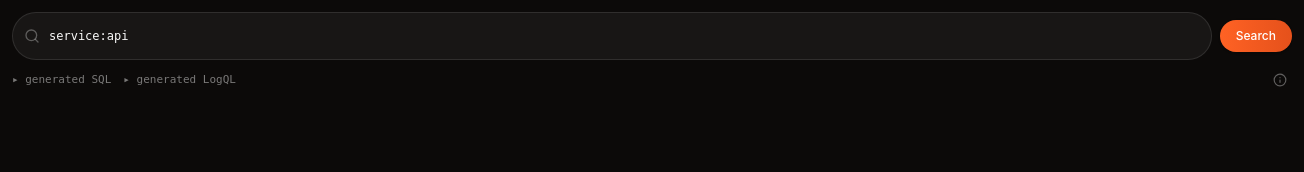
Test: QueryBar › toggles the generated LogQL panel
Click the button "▸ generated LogQL" at (180, 80), box [123,72,236,88]
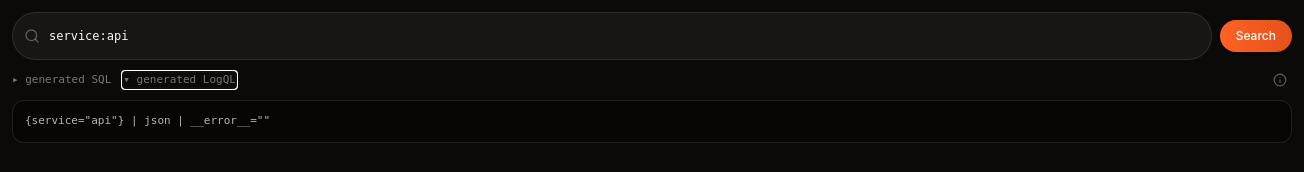
expect the button "▾ generated LogQL" is shown: met, box [123,72,236,88]
expect the text "{service=\"api\"} | json | __error__=\"\"" is shown: met, box [12,100,1292,142]
